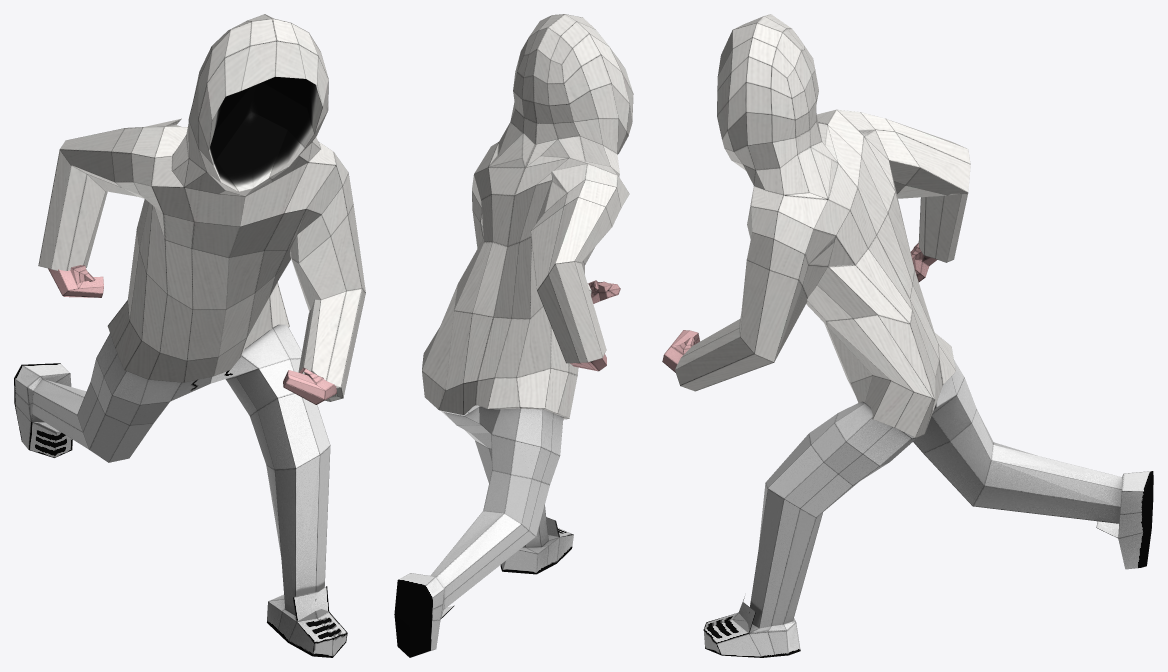
Rendered from Shadowmanv_000017.obj.
The picture shows the model from 3 angles, left to right: view 1: azimuth 30°, elevation 25°; view 2: azimuth 150°, elevation 25°; view 3: azimuth 270°, elevation 25°; orthographic projection. The views are drawn at different scales.
Parts seen in each view (by area): view 1: Cube.000; view 2: Cube.000; view 3: Cube.000.
Boxes of the visible parts, bbox=[...] form: Cube.000: bbox=[14, 14, 365, 657]; Cube.000: bbox=[394, 14, 633, 657]; Cube.000: bbox=[662, 14, 1153, 657].
Bounding box in the file's own units: 4.12 × 10.73 × 7.82.
